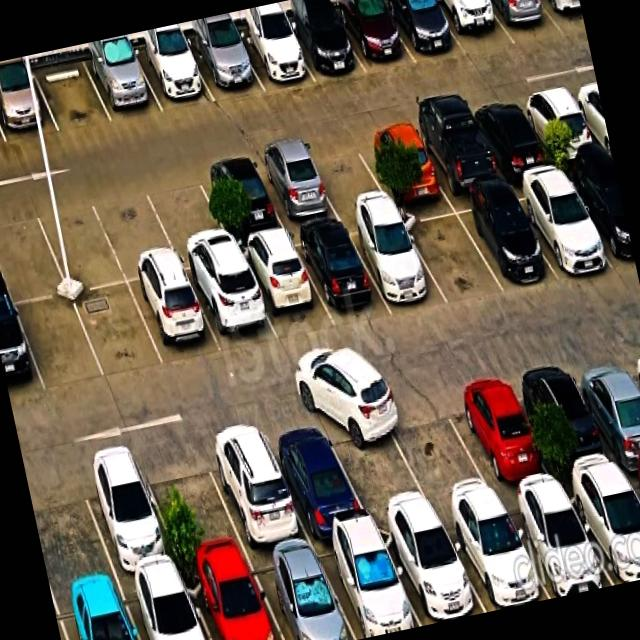empty: (378, 384, 499, 515), (136, 439, 247, 568), (320, 400, 435, 524), (25, 461, 116, 596), (397, 201, 503, 304), (141, 167, 236, 270), (32, 191, 126, 292), (90, 181, 182, 281), (72, 282, 164, 379), (15, 295, 104, 392), (300, 134, 390, 214), (0, 202, 68, 303), (32, 57, 112, 131)
occupied: (199, 420, 310, 554), (443, 371, 558, 500), (73, 449, 181, 580), (259, 413, 370, 539), (514, 357, 623, 484), (501, 489, 613, 598), (440, 502, 550, 611), (313, 529, 421, 640), (377, 518, 486, 625), (506, 171, 614, 276), (235, 234, 334, 342), (450, 189, 555, 290), (246, 544, 356, 640), (290, 222, 390, 326), (343, 212, 447, 311), (566, 347, 640, 470), (128, 271, 222, 366), (563, 472, 640, 584), (185, 261, 278, 353), (182, 557, 283, 640), (561, 161, 636, 269), (408, 109, 503, 194), (195, 156, 286, 242), (250, 145, 339, 228), (355, 122, 446, 200), (466, 96, 553, 175), (516, 85, 602, 163), (120, 570, 210, 640), (332, 0, 415, 73), (282, 8, 365, 81), (82, 48, 163, 121), (132, 41, 214, 112), (233, 22, 314, 90), (186, 32, 263, 100), (383, 0, 465, 63), (54, 583, 139, 640), (432, 0, 515, 56), (0, 301, 45, 400), (0, 68, 58, 142), (486, 0, 563, 43), (541, 0, 585, 33)
